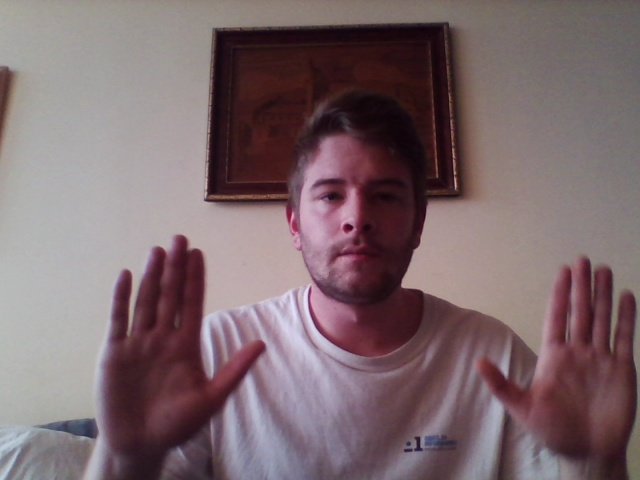prekrasno: (96, 232, 640, 458)
